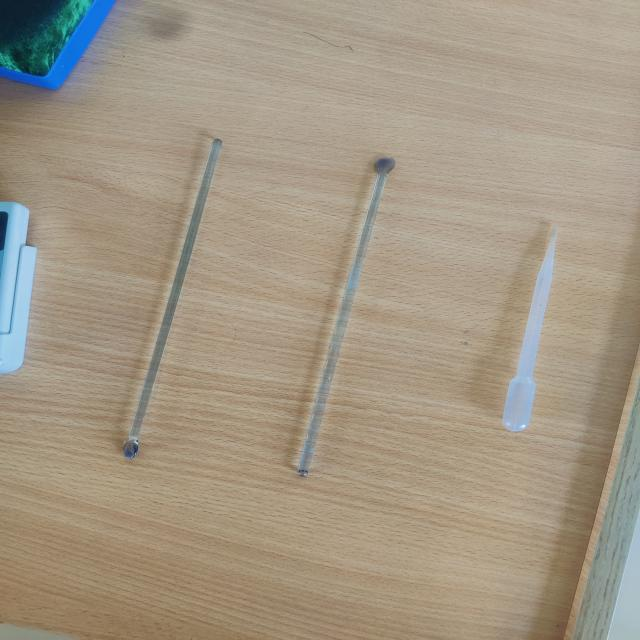Glass_Rod: (269, 120, 427, 499), (94, 104, 248, 486)
Pipette: (485, 196, 604, 452)
